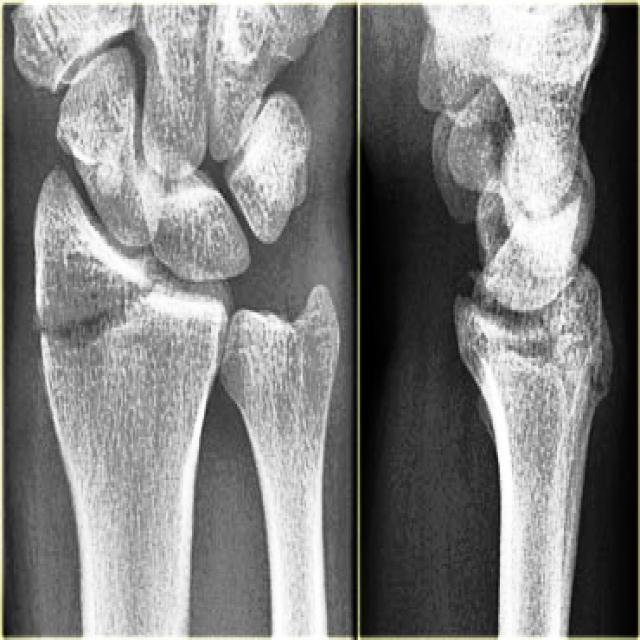Comminuted Fracture: (45, 284, 140, 354)
